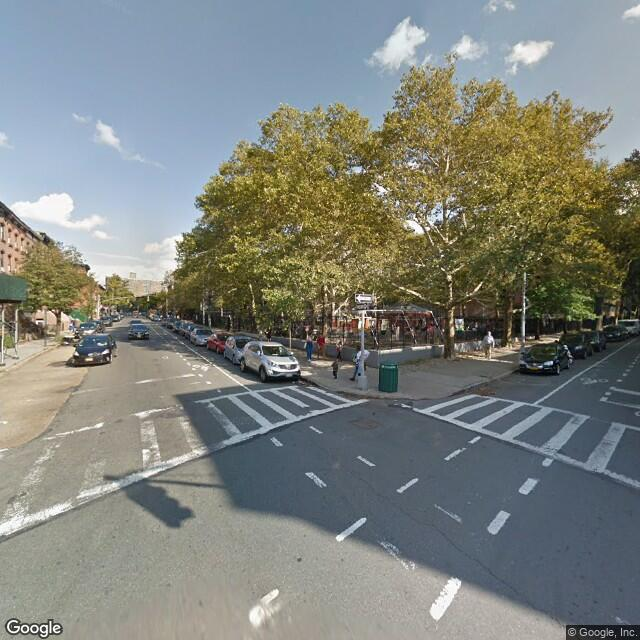litter: (391, 398, 411, 416)
